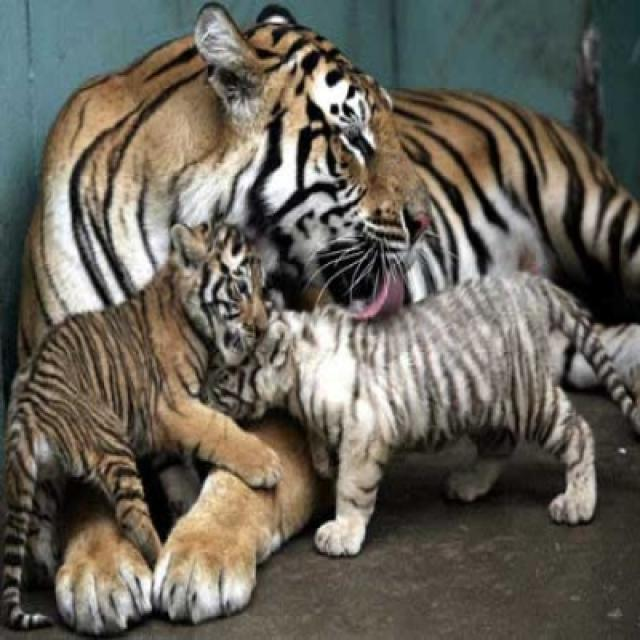Tiger: (0, 3, 638, 635)
